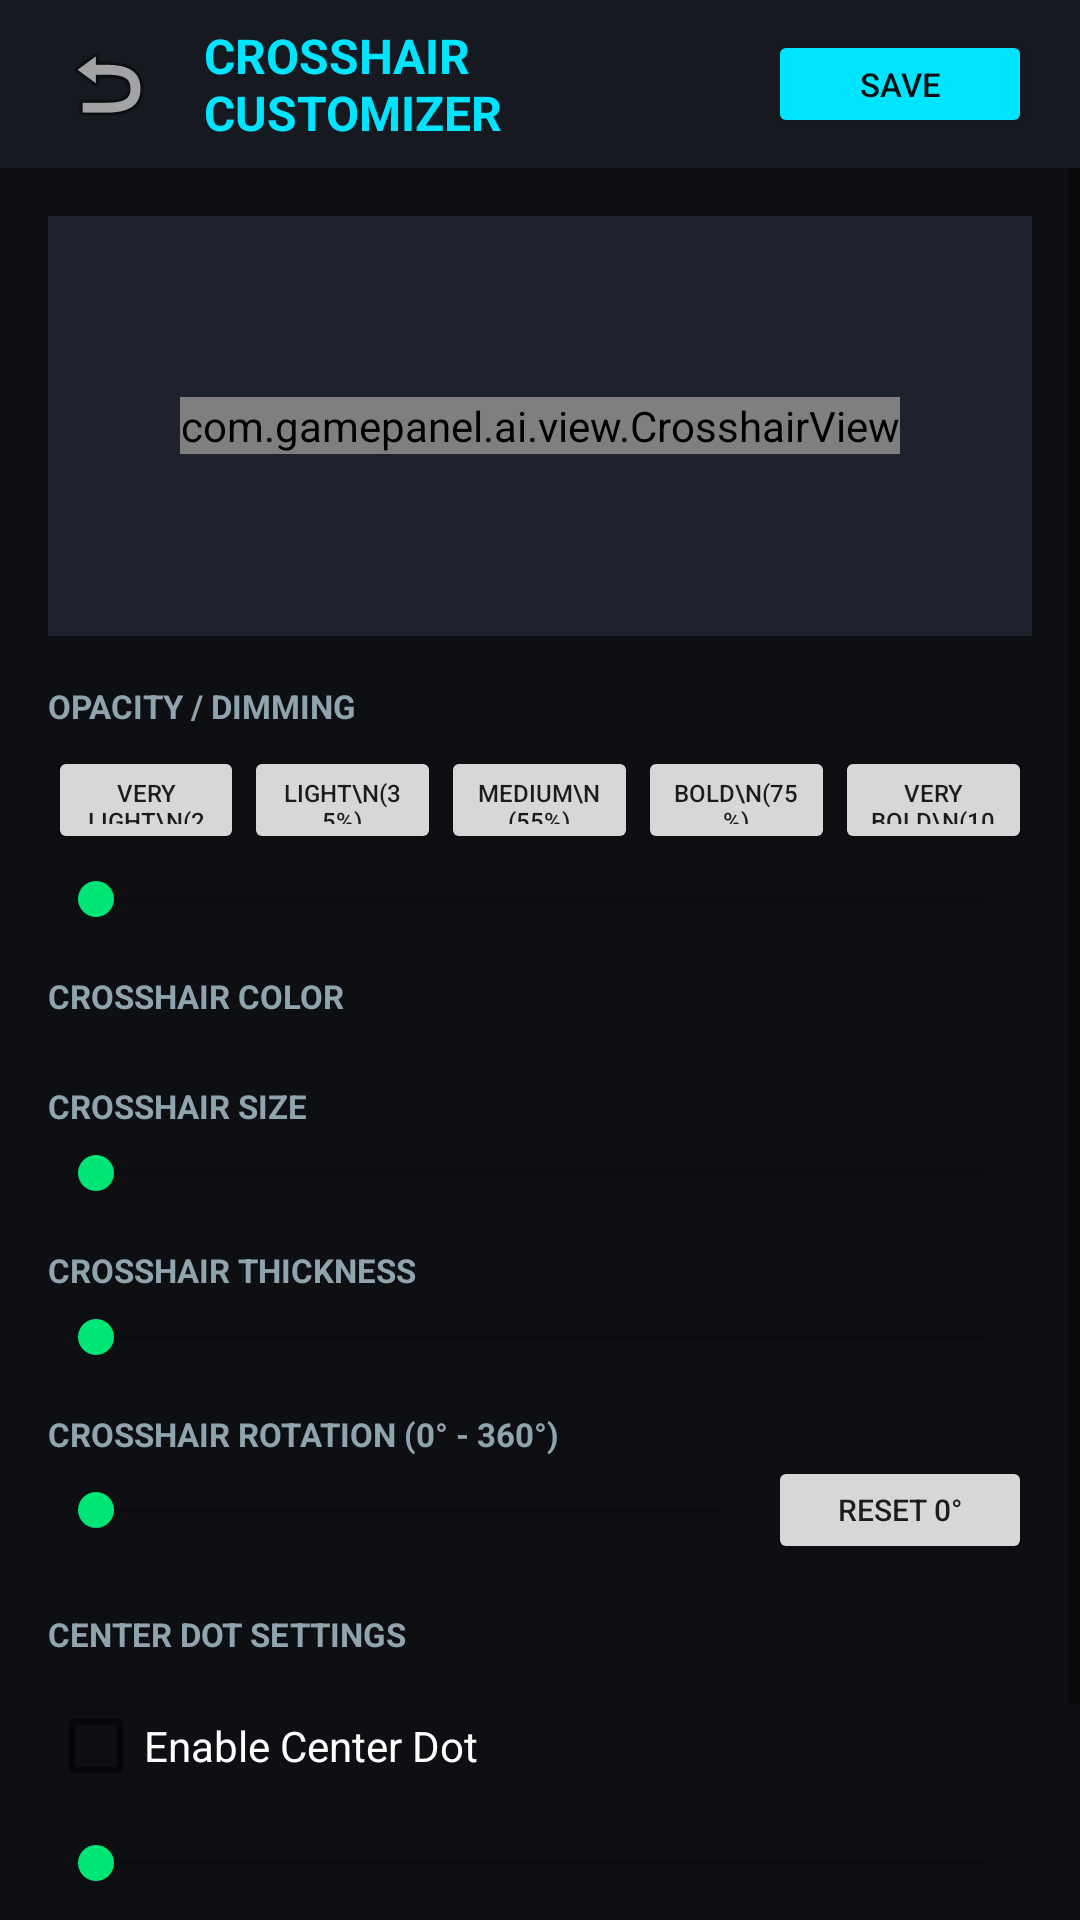

Screen size 1080px×1920px. Icon name, then its box in pixels as (x1, y1, x2, y2):
Back: (78, 56, 141, 113)
